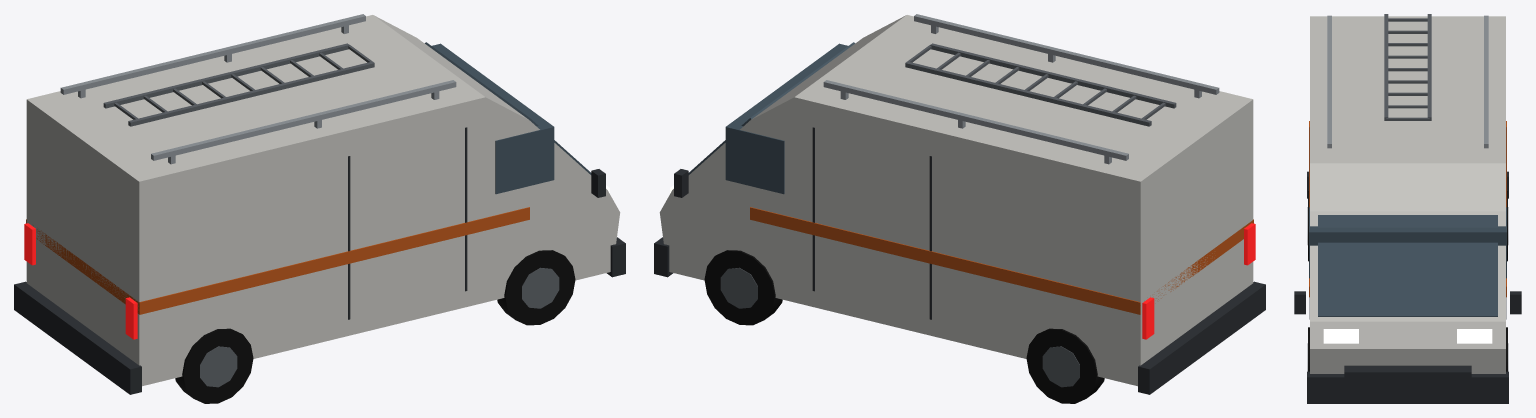
Rendered from gs-van.glb.
3 renders of one model, left to right at view 1: azimuth 30°, elevation 25°; view 2: azimuth 150°, elevation 25°; view 3: azimuth 270°, elevation 25°, orthographic. The views are drawn at different scales.
Parts seen in each view (by area): view 1: gs-van; view 2: gs-van; view 3: gs-van.
Boxes of the visible parts, bbox=[...] form: gs-van: bbox=[14, 14, 625, 403]; gs-van: bbox=[654, 14, 1265, 403]; gs-van: bbox=[1294, 14, 1521, 403].
Bounding box in the file's own units: 5.17 × 2.54 × 2.32.
